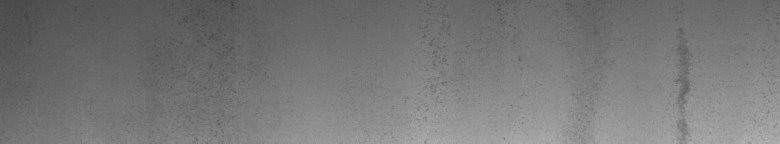ib: (423, 20, 512, 88)
